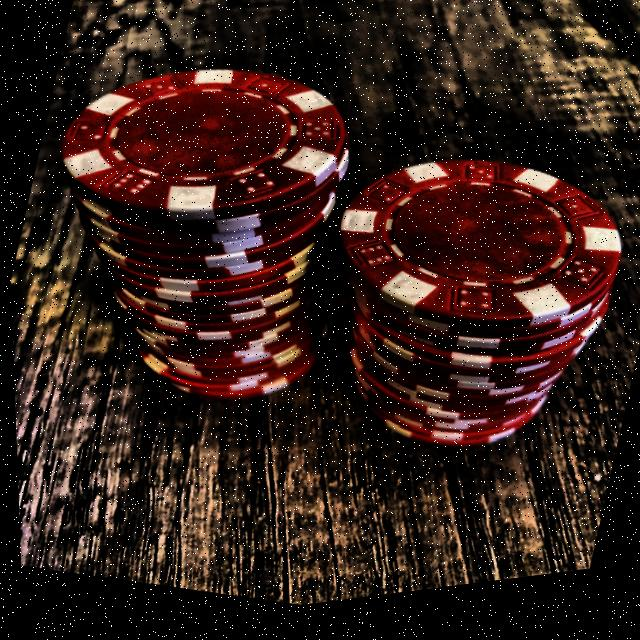Chip: (1, 0, 409, 448), (272, 104, 640, 499)
